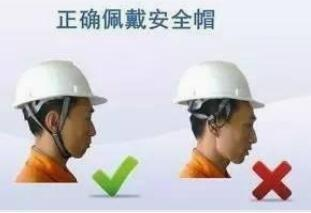helmet: (13, 60, 109, 111), (174, 60, 269, 109)
